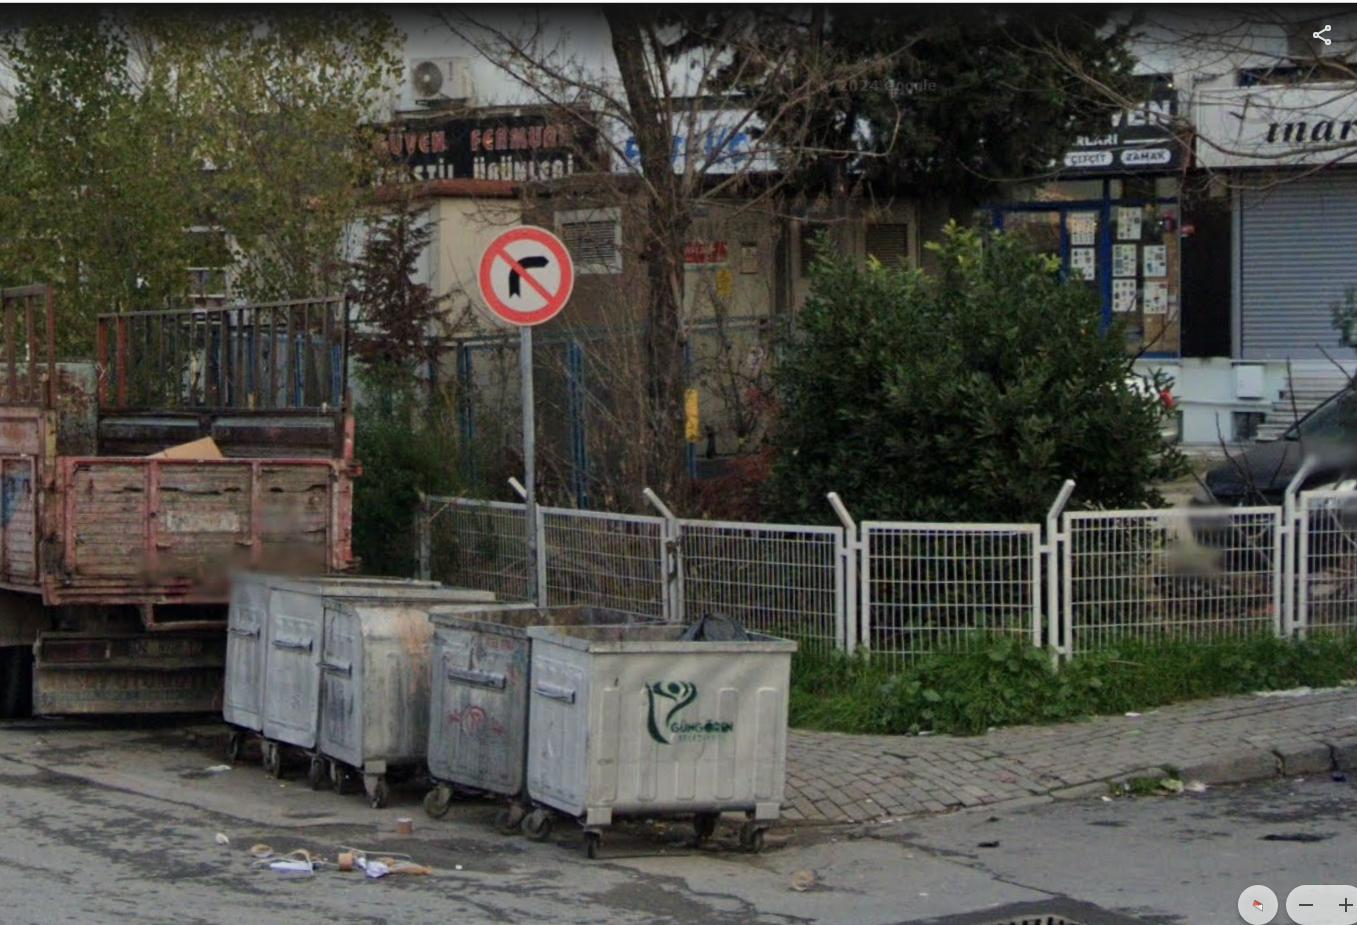rightturnsareforbidden: (482, 227, 574, 324)
